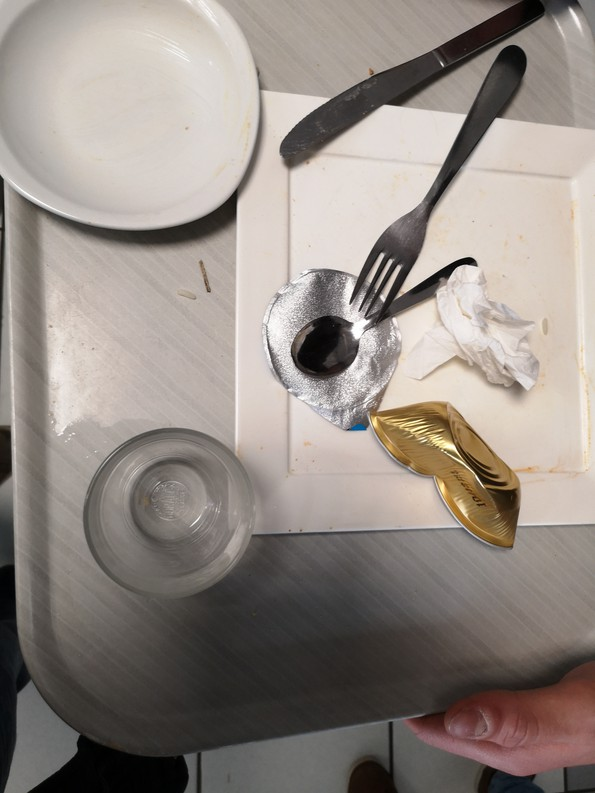cup: (67, 421, 269, 621)
cutlery: (349, 38, 542, 307), (276, 1, 559, 172), (292, 251, 486, 382)
trash: (415, 272, 553, 546), (257, 259, 406, 431)
